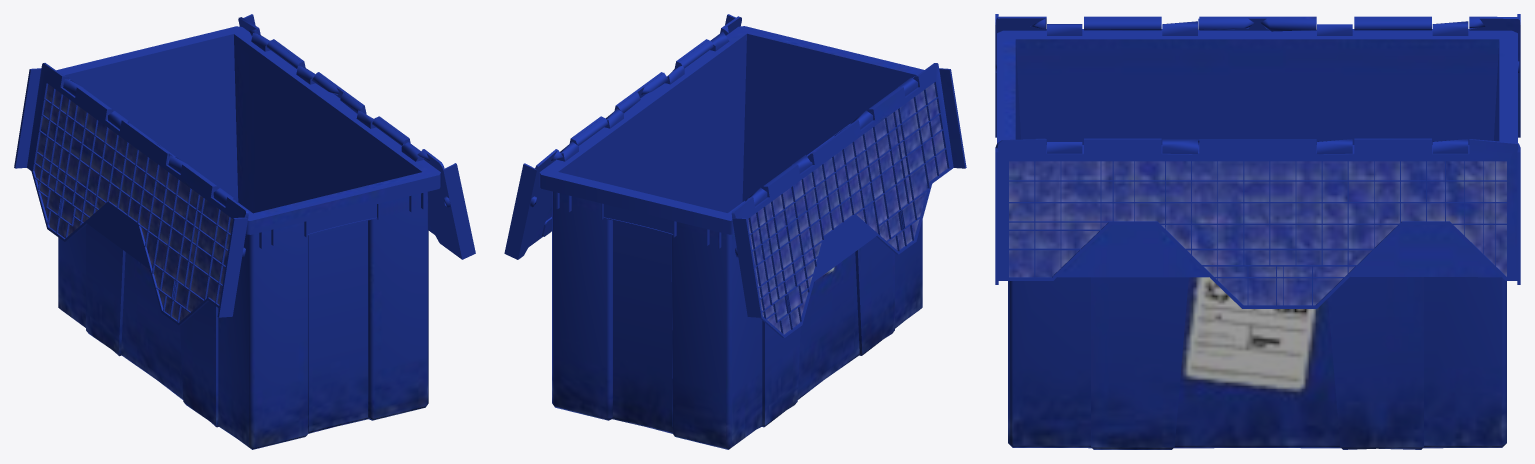
The model's file is trash_can_lod1.glb.
3 renders of one model, left to right at view 1: azimuth 30°, elevation 25°; view 2: azimuth 150°, elevation 25°; view 3: azimuth 270°, elevation 25°, orthographic. The views are drawn at different scales.
Size of the model in its own units: 0.4572 by 0.4188 by 0.6314.
Materials: 1 (1 with a texture image).
